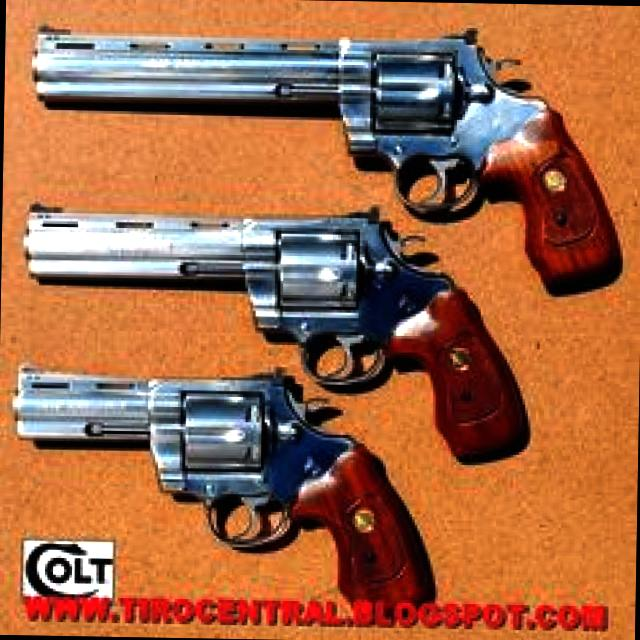revolver: (1, 0, 640, 313)
